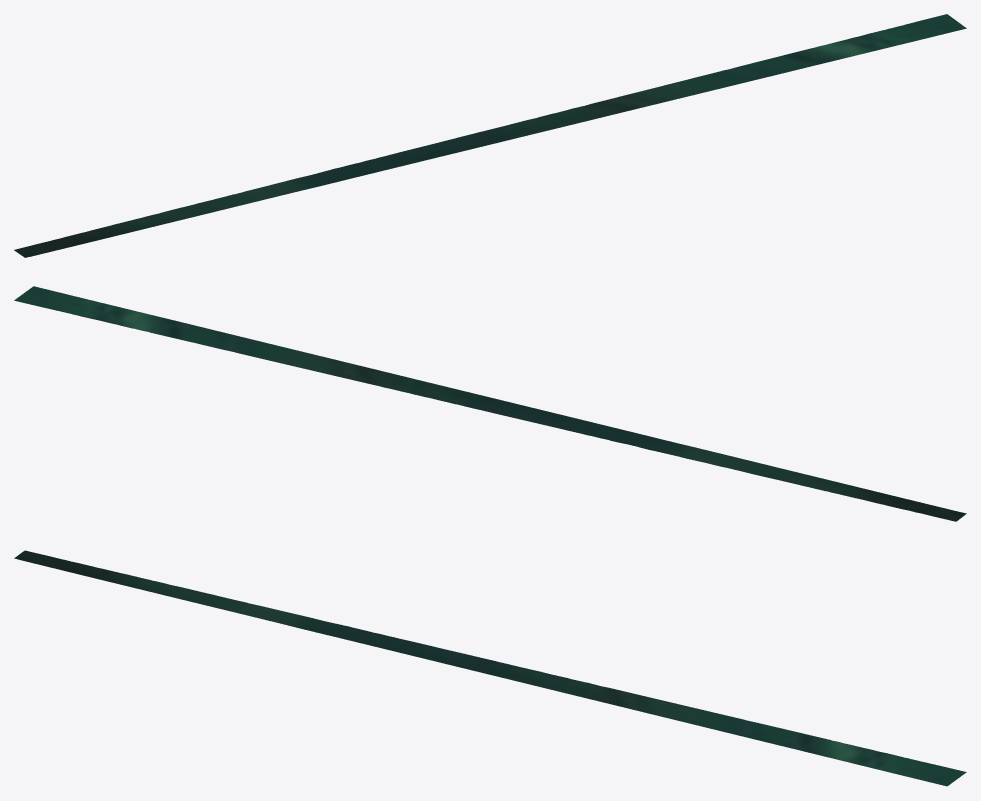
3 renders of one model, top to bottom at view 1: azimuth 30°, elevation 25°; view 2: azimuth 150°, elevation 25°; view 3: azimuth 330°, elevation 25°, orthographic.
Bounding box in the file's own units: 2907 × 1.34 × 106.
1 material, 1 textured.
